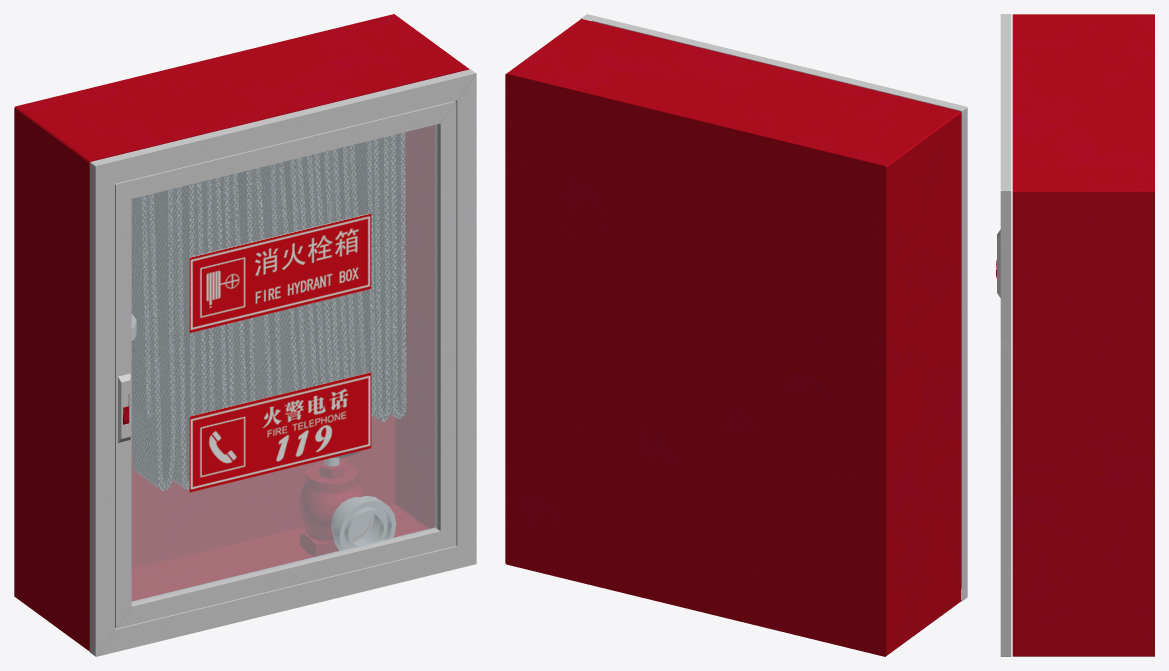
The model's file is SM_消防栓001.fbx.
The picture shows the model from 3 angles, left to right: view 1: azimuth 30°, elevation 25°; view 2: azimuth 150°, elevation 25°; view 3: azimuth 270°, elevation 25°; orthographic projection. The views are drawn at different scales.
Parts seen in each view (by area): view 1: SM_消防栓001; view 2: SM_消防栓001; view 3: SM_消防栓001.
Boxes of the visible parts, x1,y1,x2,y2 form: SM_消防栓001: (14, 14, 476, 656); SM_消防栓001: (505, 14, 967, 656); SM_消防栓001: (996, 14, 1154, 656).
Bounding box in the file's own units: 65 × 80 × 24.7.
